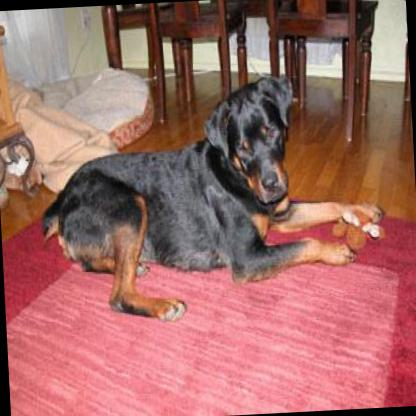Rottweiler: (31, 73, 390, 328)
